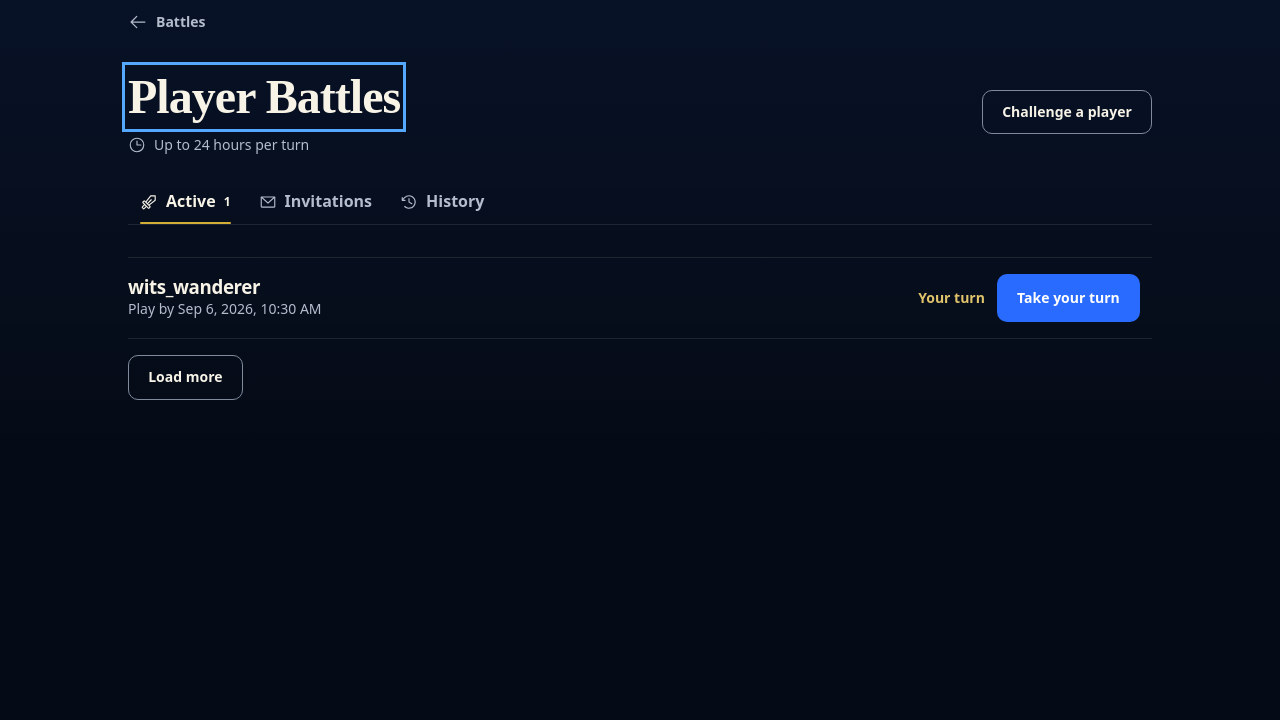
Test case: player battle hub recovery › retries a failed active page with the same cursor and deduplicates overlapping results
Click the button with aria-label "Load more active matches": [185, 378] box [128,355,243,400]
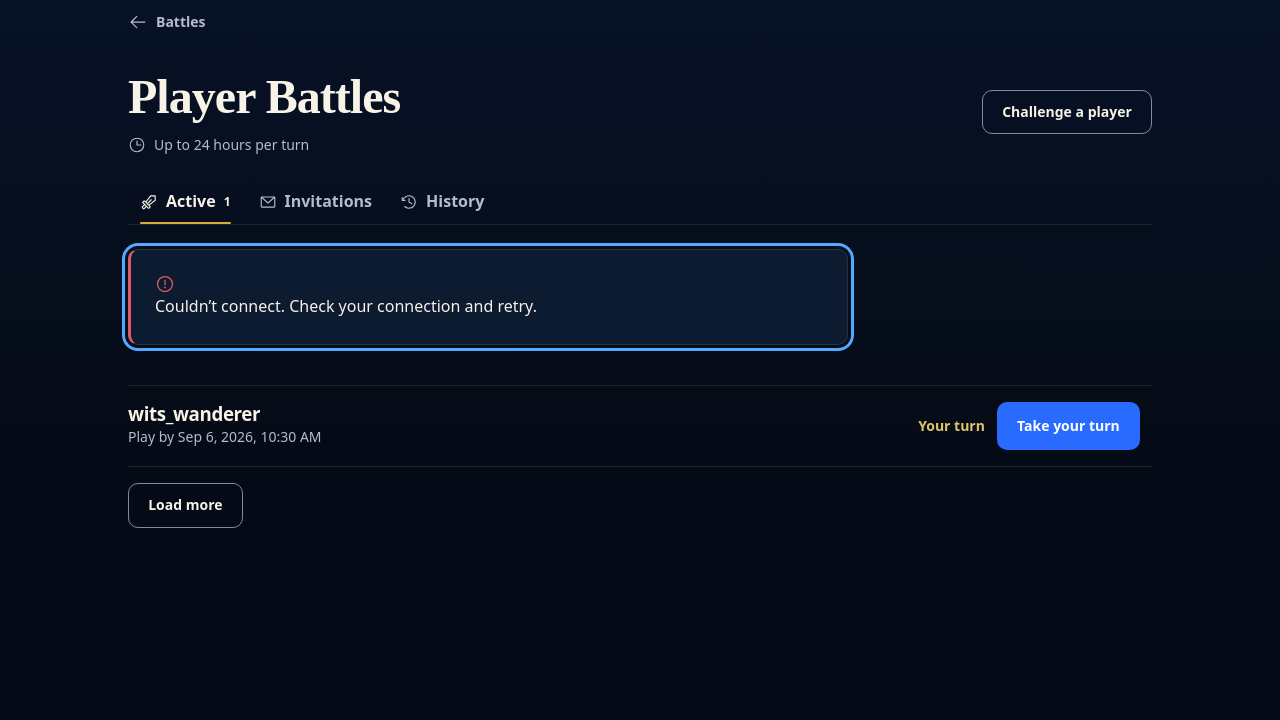
Expected: the number of list items is 1, [128,385,1152,467]
Now the message shows "Couldn’t connect", box [155,295,537,317]
Click the button with aria-label "Load more active matches": [185, 505] box [128,483,243,528]
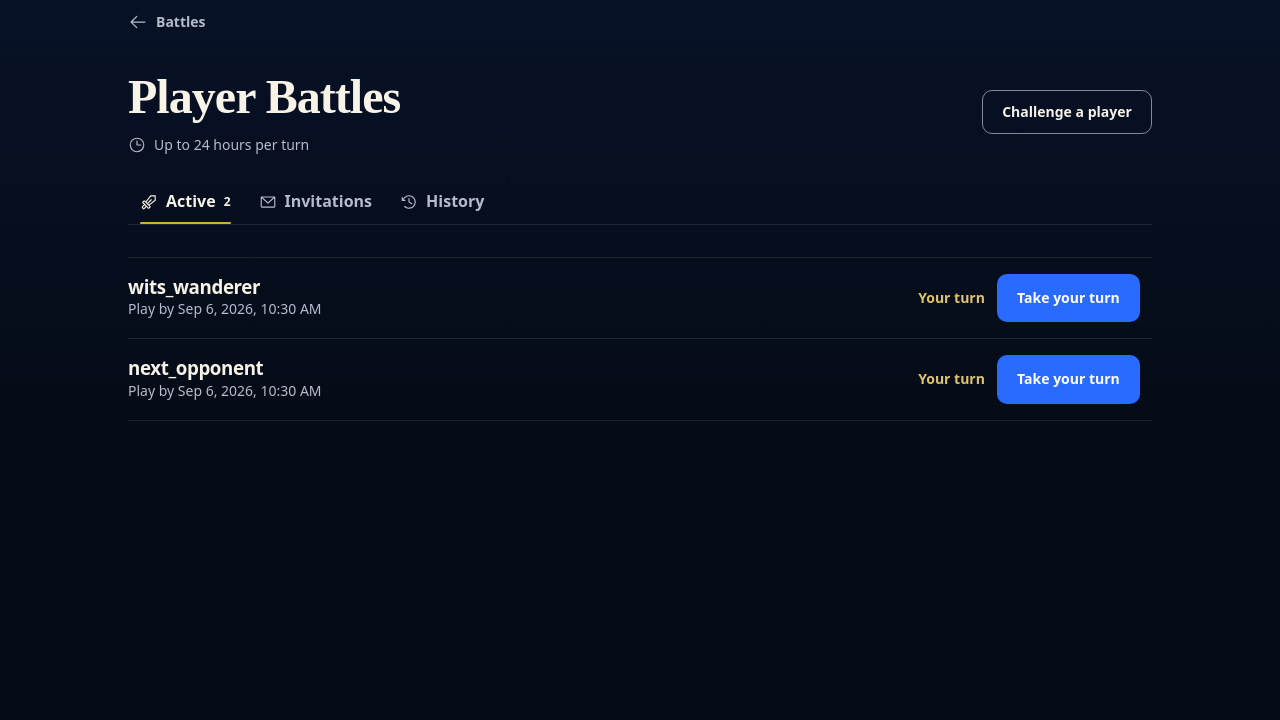
Now the number of list items is 2, box [128,257,1152,338]; [128,338,1152,421]
